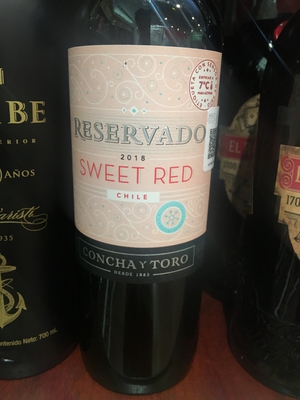reservado sweet red: (51, 12, 240, 362)
